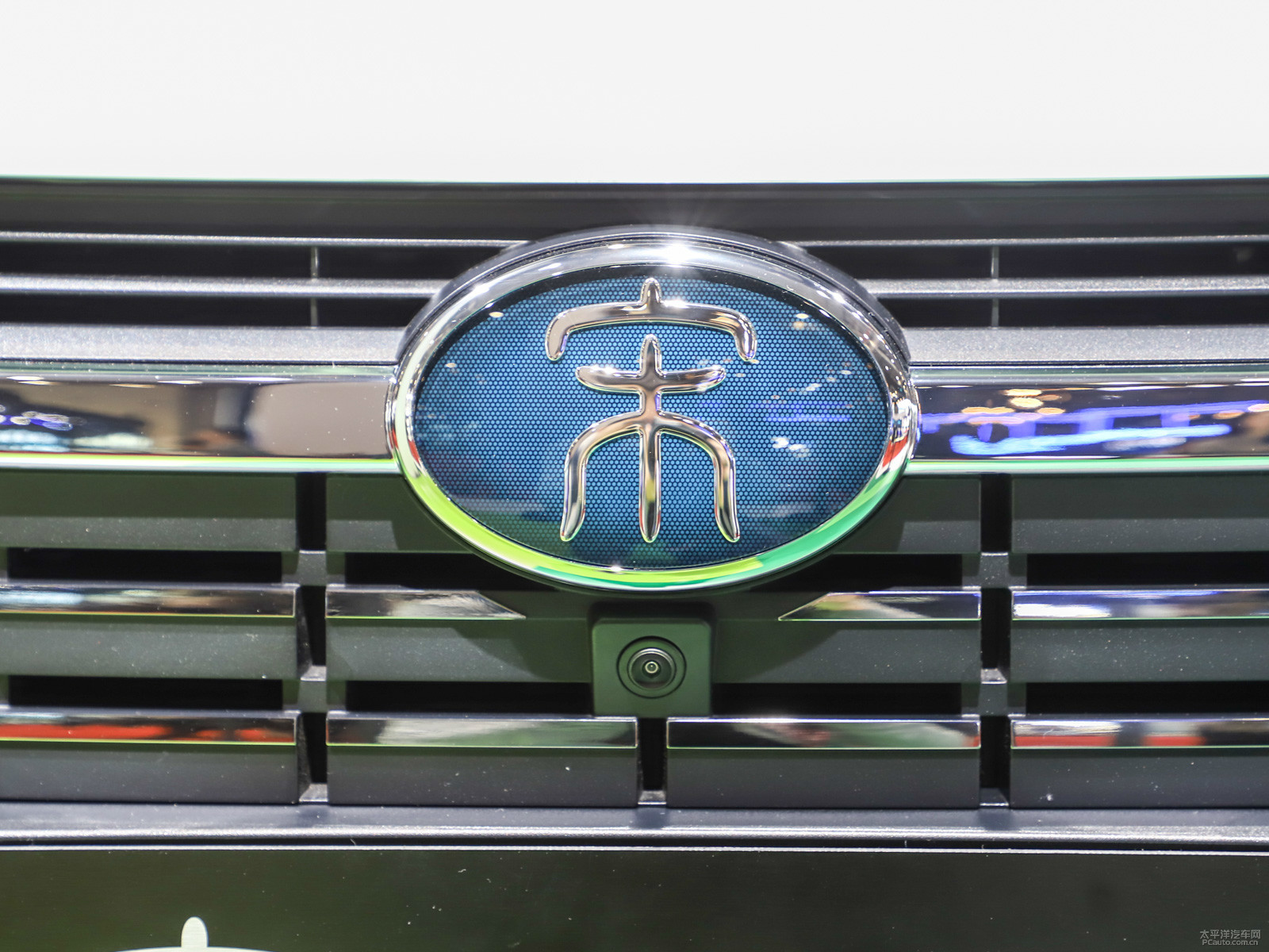BYD Song: (393, 241, 909, 585)
